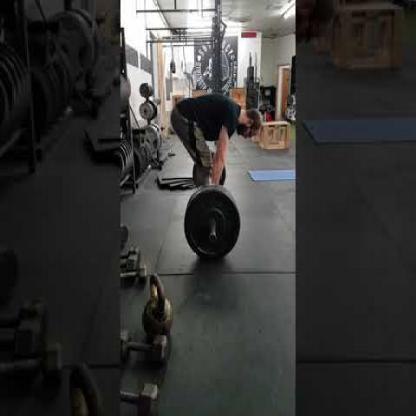barbell: (184, 151, 240, 263)
